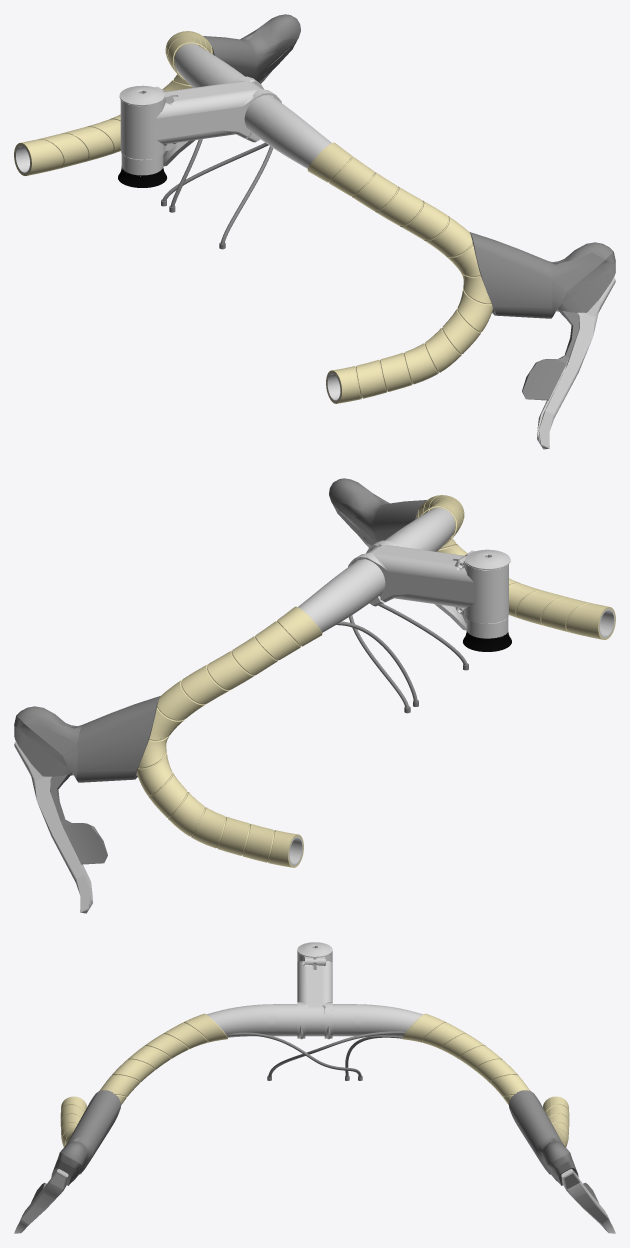
The model's file is Handle4_Track_Shifter.glb.
The picture shows the model from 3 angles, top to bottom: view 1: azimuth 30°, elevation 25°; view 2: azimuth 150°, elevation 25°; view 3: azimuth 270°, elevation 25°; orthographic projection. The views are drawn at different scales.
Parts seen in each view (by area): view 1: no_transformations (×7); view 2: no_transformations (×7); view 3: no_transformations (×6).
Part boxes in pixels (x1,y1,x2,y2): no_transformations (×7): (14,14,615,449); no_transformations (×7): (14,478,615,913); no_transformations (×6): (14,942,615,1233).
Bounding box in the file's own units: 297 × 227 × 598.
